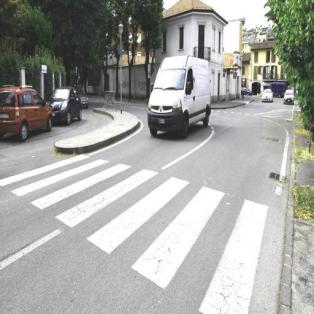Paso de Cebra: (86, 152, 227, 300)
